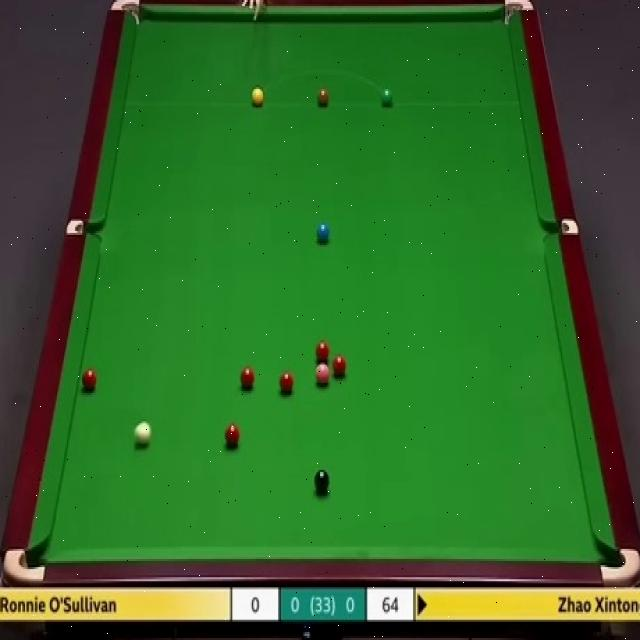black-ball: (316, 469, 329, 493)
blue-ball: (316, 224, 330, 241)
brown-ball: (316, 88, 329, 107)
green-ball: (380, 85, 395, 108)
pink-ball: (314, 362, 330, 383)
red-ball: (223, 421, 239, 448), (82, 367, 97, 393), (240, 366, 256, 389), (333, 355, 347, 378), (280, 372, 294, 394), (316, 343, 329, 361)
white-ball: (135, 421, 150, 446)
yellow-ball: (251, 87, 264, 108)
